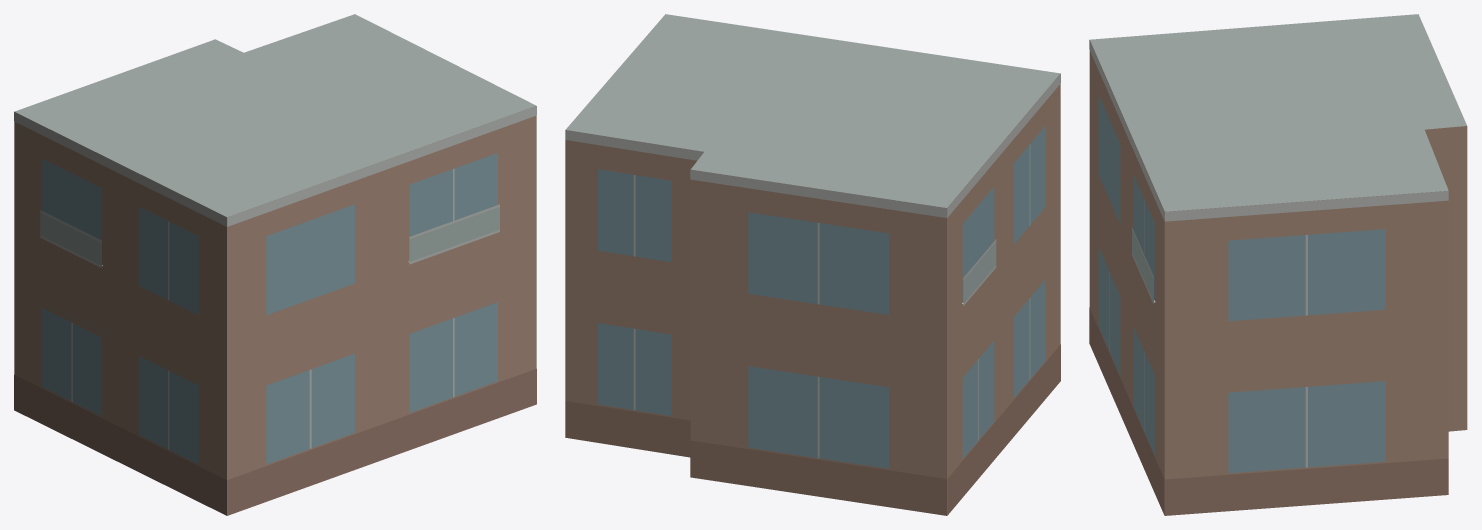
The model's file is survey-upis-32501864.glb.
The picture shows the model from 3 angles, left to right: view 1: azimuth 30°, elevation 25°; view 2: azimuth 150°, elevation 25°; view 3: azimuth 270°, elevation 25°; orthographic projection. The views are drawn at different scales.
Parts seen in each view (by area): view 1: survey-upis-32501864.tmp; view 2: survey-upis-32501864.tmp; view 3: survey-upis-32501864.tmp.
Boxes of the visible parts, x1,y1,x2,y2 form: survey-upis-32501864.tmp: (14,14,536,515); survey-upis-32501864.tmp: (565,14,1060,515); survey-upis-32501864.tmp: (1089,14,1467,515).
Size of the model in its own units: 10.47 by 7.5 by 8.45.
